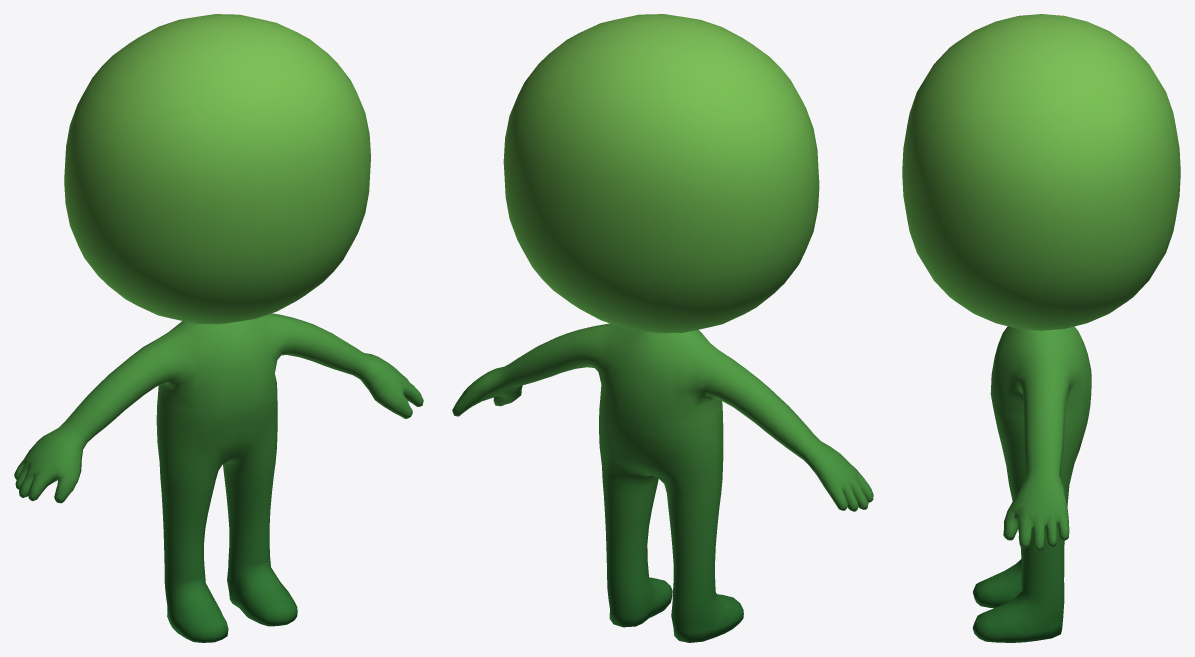
File: Body_05.glb
The picture shows the model from 3 angles, left to right: view 1: azimuth 30°, elevation 25°; view 2: azimuth 150°, elevation 25°; view 3: azimuth 270°, elevation 25°; orthographic projection. The views are drawn at different scales.
Visible parts, largest first — view 1: Body_05; view 2: Body_05; view 3: Body_05.
Part boxes in pixels (x1,y1,x2,y2): Body_05: (14,14,423,642); Body_05: (452,14,873,642); Body_05: (902,14,1180,642).
Bounding box in the file's own units: 0.828 × 1.15 × 0.4965.
Materials: 1 (1 with a texture image).
